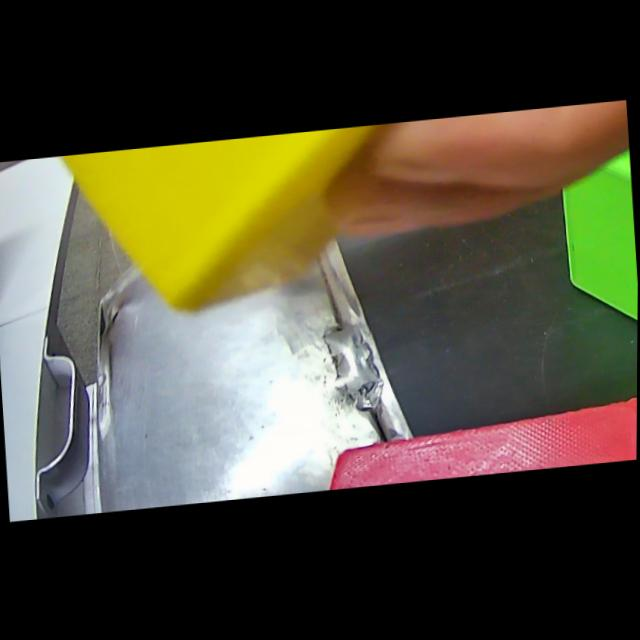greenBox: (554, 114, 639, 403)
redBox: (316, 393, 638, 492)
yellowBox: (32, 113, 538, 336)
